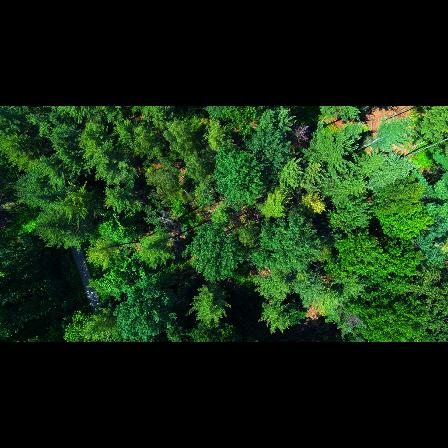Dead: (289, 123, 315, 149)
